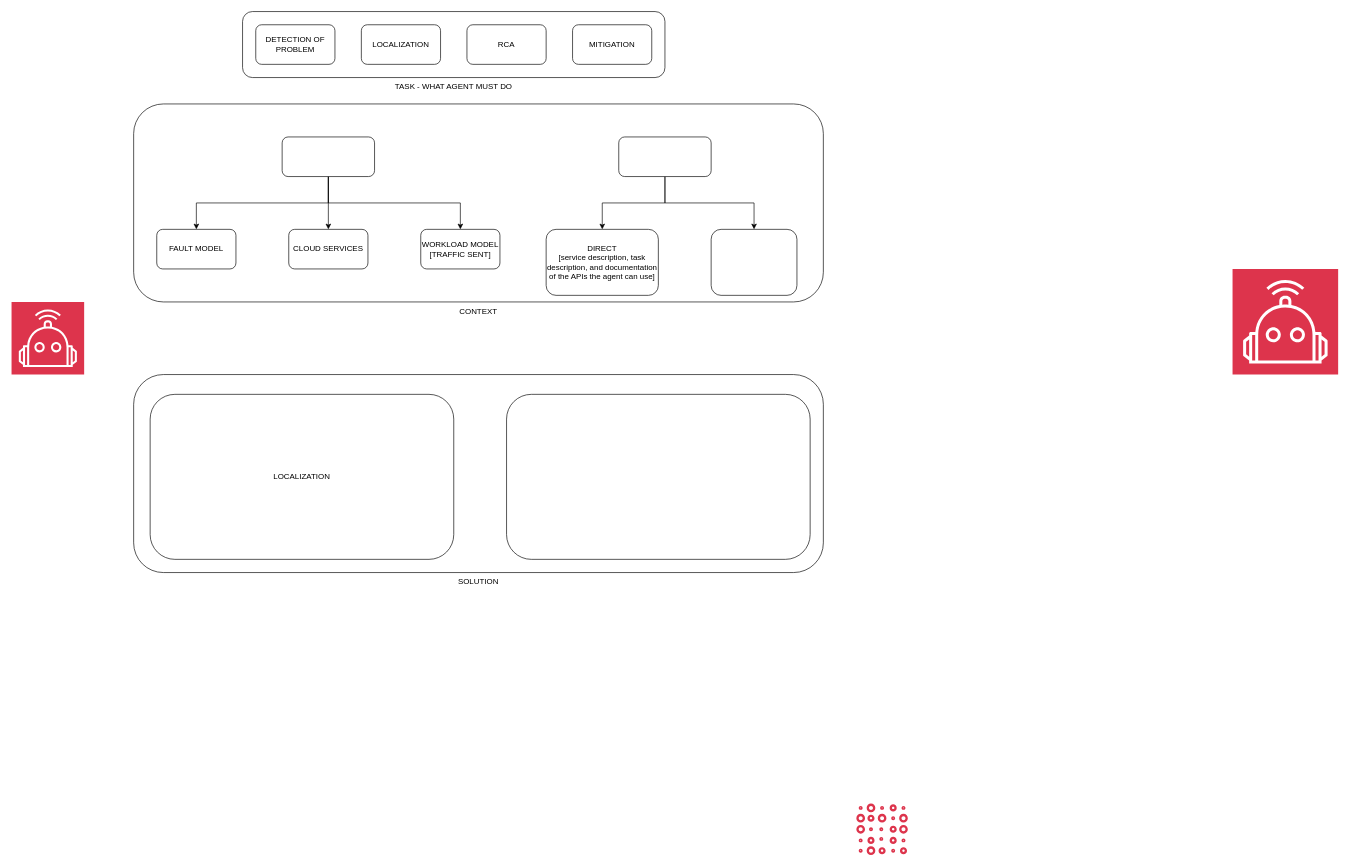
Some shapes in this 1350 by 867 pixel diagram are drawn without their labels. The centre of each missing label's shape, as x and y in pixels:
"INDIRECT [logs, metrics, and traces] [AGENT MUST ASK FOR THEM - NOT GIVEN]" goes at point (753, 262).
"OPERATIONAL ENVIRONMENT [HIDDEN FROM AGENT]" goes at point (328, 156).
"PROBLEM INFORMATION [GIVEN TO AGENT]" goes at point (664, 156).
